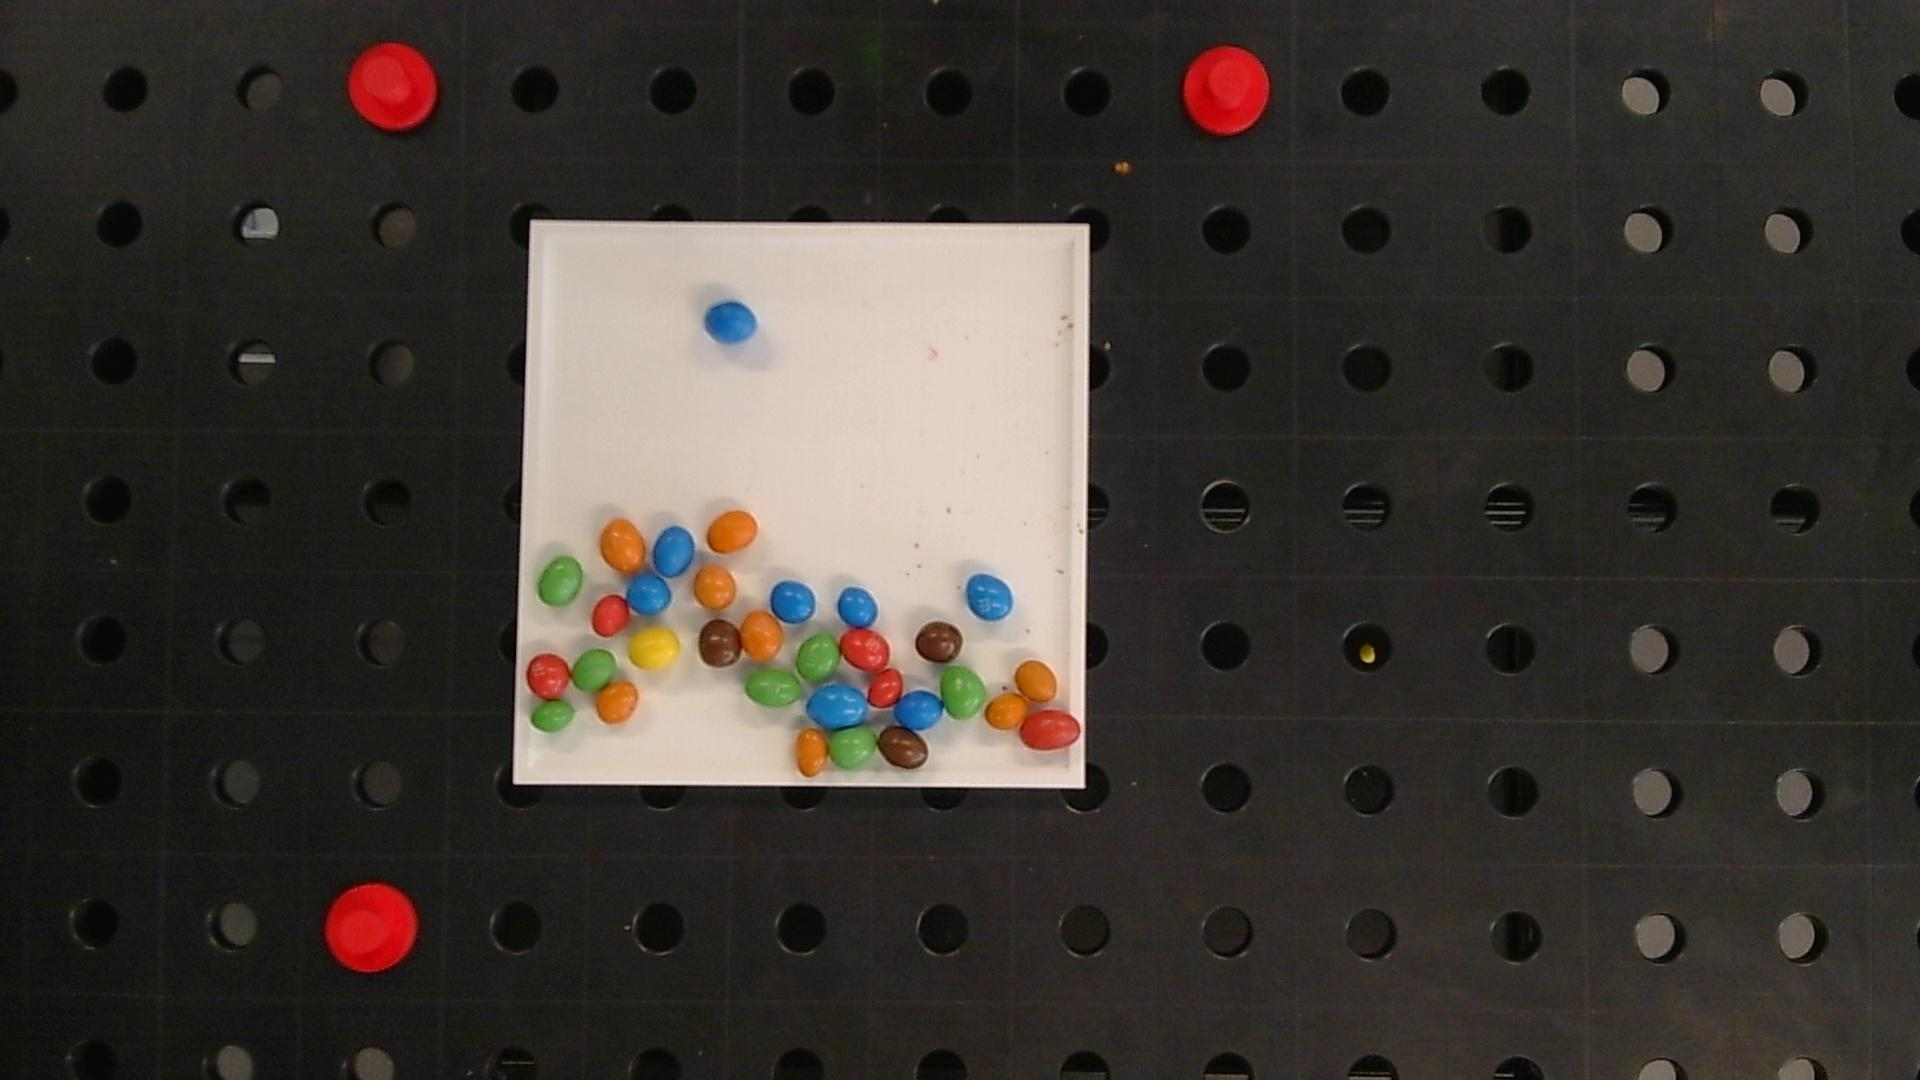blue: (807, 684, 868, 728), (704, 302, 758, 344), (967, 574, 1013, 620), (653, 526, 695, 576), (771, 580, 816, 624), (894, 691, 944, 729), (626, 574, 671, 615), (837, 587, 878, 626)
brown: (878, 725, 928, 769), (914, 620, 963, 663), (699, 620, 742, 667)
green: (942, 666, 986, 719), (538, 556, 583, 605), (795, 634, 840, 680), (829, 727, 878, 769), (746, 670, 802, 707), (572, 649, 615, 691), (530, 700, 576, 733)
orange: (600, 518, 646, 572), (740, 611, 783, 662), (707, 510, 758, 553), (694, 566, 737, 609), (595, 680, 638, 724), (1015, 659, 1058, 702), (796, 728, 828, 777), (985, 694, 1027, 729)
red: (1018, 711, 1081, 749), (526, 653, 571, 699), (840, 629, 890, 670), (591, 595, 630, 636), (868, 669, 903, 707)
yellow: (628, 626, 680, 671)
